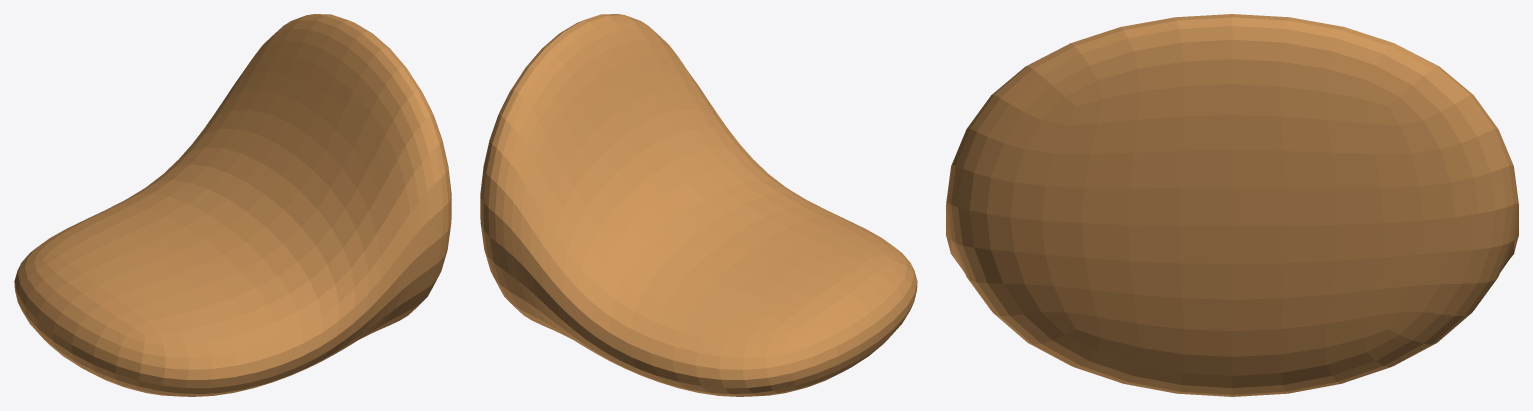
File: SandPatch_ScalableBorder.fbx
3 renders of one model, left to right at view 1: azimuth 30°, elevation 25°; view 2: azimuth 150°, elevation 25°; view 3: azimuth 270°, elevation 25°, orthographic. The views are drawn at different scales.
Parts seen in each view (by area): view 1: SandPatch_ScalableBorder; view 2: SandPatch_ScalableBorder; view 3: SandPatch_ScalableBorder.
Part boxes in pixels (box(x1,y1,x2,y2)): SandPatch_ScalableBorder: box(14, 14, 451, 396); SandPatch_ScalableBorder: box(480, 14, 917, 396); SandPatch_ScalableBorder: box(946, 14, 1518, 396).
Size of the model in its own units: 10.92 by 10.67 by 8.52.
